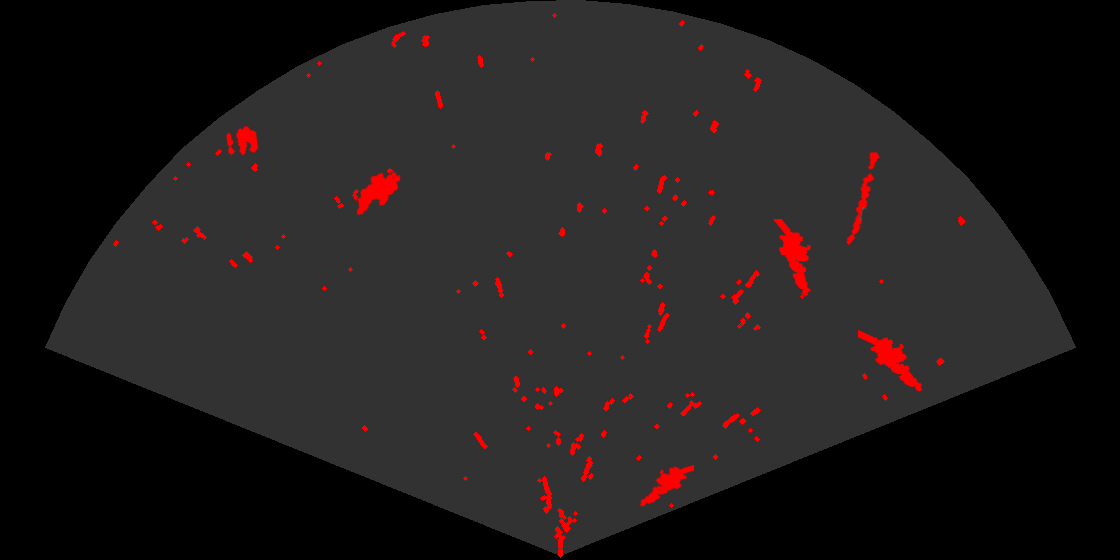AUV: (355, 170, 402, 217)
ball: (225, 125, 260, 157)
chain: (845, 149, 882, 247)
frogman: (858, 328, 924, 393), (772, 219, 813, 298), (638, 463, 694, 508)
